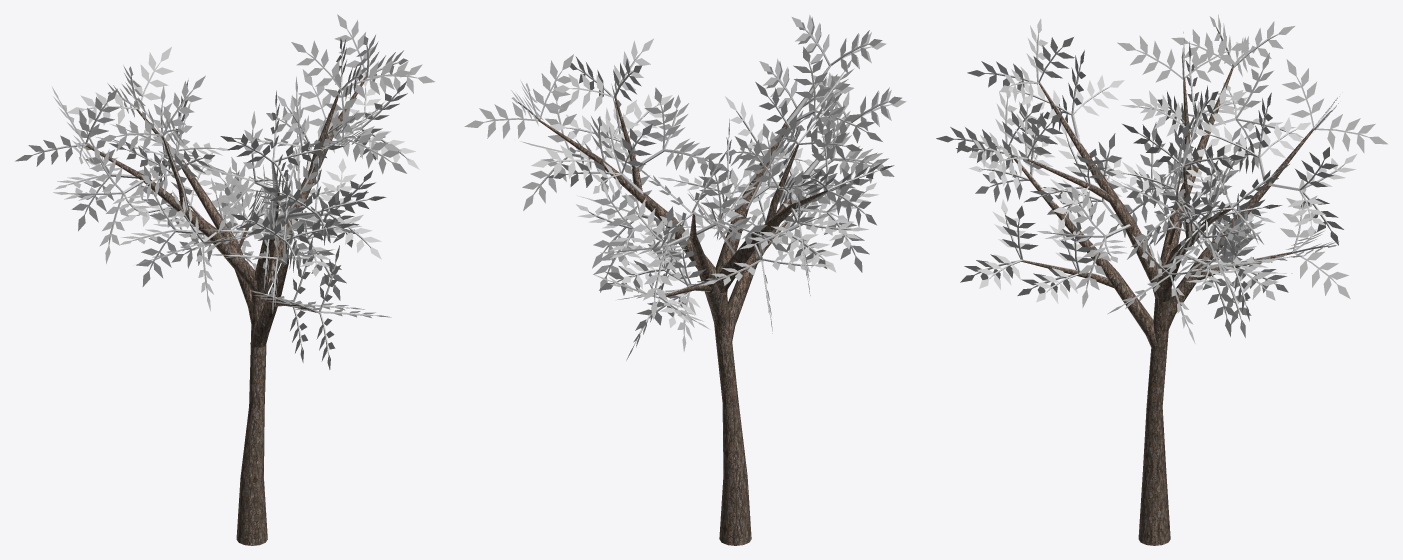
The model's file is tree.obj.
3 views of the same model, side by side, from view 1: azimuth 30°, elevation 25°; view 2: azimuth 150°, elevation 25°; view 3: azimuth 270°, elevation 25° (orthographic). The views are drawn at different scales.
Visible parts, largest first — view 1: tree:Mesh1 tree:Model tree:polySurface2 tree:tree2_dxf1 tree:pol, tree:Mesh3 tree:Model tree:polySurface2 tree:tree2_dxf1 tree:pol, tree:Mesh5 tree:Model tree:polySurface2 tree:tree2_dxf1 tree:pol, tree:Mesh9 tree:Model tree:polySurface2 tree:tree2_dxf1 tree:pol, tree:Mesh4 tree:Model tree:polySurface2 tree:tree2_dxf1 tree:pol, tree:Mesh2 tree:Model tree:polySurface2 tree:tree2_dxf1 tree:pol; view 2: tree:Mesh1 tree:Model tree:polySurface2 tree:tree2_dxf1 tree:pol, tree:Mesh4 tree:Model tree:polySurface2 tree:tree2_dxf1 tree:pol, tree:Mesh9 tree:Model tree:polySurface2 tree:tree2_dxf1 tree:pol, tree:Mesh2 tree:Model tree:polySurface2 tree:tree2_dxf1 tree:pol, tree:Mesh5 tree:Model tree:polySurface2 tree:tree2_dxf1 tree:pol, tree:Mesh3 tree:Model tree:polySurface2 tree:tree2_dxf1 tree:pol; view 3: tree:Mesh1 tree:Model tree:polySurface2 tree:tree2_dxf1 tree:pol, tree:Mesh9 tree:Model tree:polySurface2 tree:tree2_dxf1 tree:pol, tree:Mesh4 tree:Model tree:polySurface2 tree:tree2_dxf1 tree:pol, tree:Mesh5 tree:Model tree:polySurface2 tree:tree2_dxf1 tree:pol, tree:Mesh3 tree:Model tree:polySurface2 tree:tree2_dxf1 tree:pol, tree:Mesh2 tree:Model tree:polySurface2 tree:tree2_dxf1 tree:pol, tree:Mesh8 tree:Model tree:polySurface2 tree:tree2_dxf1 tree:pol.
Part boxes in pixels (bbox=[...]): tree:Mesh1 tree:Model tree:polySurface2 tree:tree2_dxf1 tree:pol: bbox=[236, 292, 267, 545]; tree:Mesh3 tree:Model tree:polySurface2 tree:tree2_dxf1 tree:pol: bbox=[86, 144, 257, 292]; tree:Mesh5 tree:Model tree:polySurface2 tree:tree2_dxf1 tree:pol: bbox=[136, 109, 252, 324]; tree:Mesh9 tree:Model tree:polySurface2 tree:tree2_dxf1 tree:pol: bbox=[250, 241, 288, 347]; tree:Mesh4 tree:Model tree:polySurface2 tree:tree2_dxf1 tree:pol: bbox=[251, 162, 279, 297]; tree:Mesh2 tree:Model tree:polySurface2 tree:tree2_dxf1 tree:pol: bbox=[266, 76, 366, 292]; tree:Mesh1 tree:Model tree:polySurface2 tree:tree2_dxf1 tree:pol: bbox=[714, 294, 751, 545]; tree:Mesh4 tree:Model tree:polySurface2 tree:tree2_dxf1 tree:pol: bbox=[715, 65, 831, 295]; tree:Mesh9 tree:Model tree:polySurface2 tree:tree2_dxf1 tree:pol: bbox=[716, 123, 849, 344]; tree:Mesh2 tree:Model tree:polySurface2 tree:tree2_dxf1 tree:pol: bbox=[538, 120, 716, 280]; tree:Mesh5 tree:Model tree:polySurface2 tree:tree2_dxf1 tree:pol: bbox=[690, 214, 728, 326]; tree:Mesh3 tree:Model tree:polySurface2 tree:tree2_dxf1 tree:pol: bbox=[716, 190, 827, 293]; tree:Mesh1 tree:Model tree:polySurface2 tree:tree2_dxf1 tree:pol: bbox=[1138, 298, 1170, 545]; tree:Mesh9 tree:Model tree:polySurface2 tree:tree2_dxf1 tree:pol: bbox=[1012, 153, 1165, 351]; tree:Mesh4 tree:Model tree:polySurface2 tree:tree2_dxf1 tree:pol: bbox=[1039, 82, 1160, 298]; tree:Mesh5 tree:Model tree:polySurface2 tree:tree2_dxf1 tree:pol: bbox=[1161, 128, 1313, 331]; tree:Mesh3 tree:Model tree:polySurface2 tree:tree2_dxf1 tree:pol: bbox=[1159, 67, 1233, 298]; tree:Mesh2 tree:Model tree:polySurface2 tree:tree2_dxf1 tree:pol: bbox=[1155, 209, 1231, 301]; tree:Mesh8 tree:Model tree:polySurface2 tree:tree2_dxf1 tree:pol: bbox=[1027, 158, 1119, 202].
Bounding box in the file's own units: 1.17 × 1.35 × 1.12.
